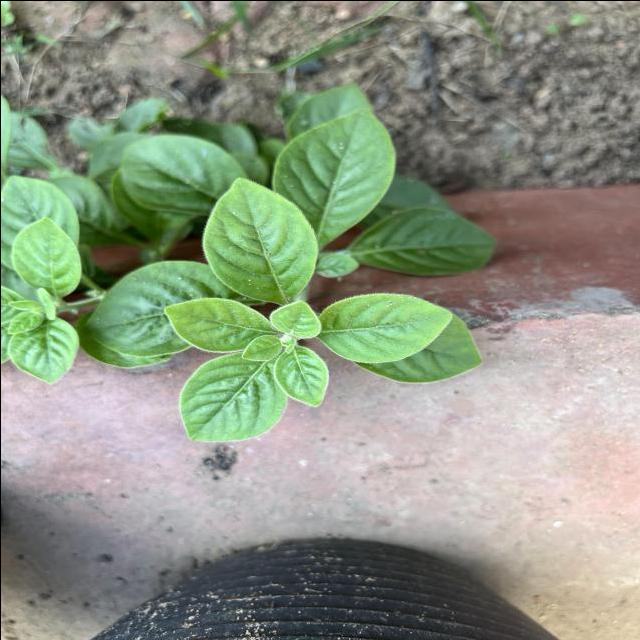Aerva lanata: (197, 174, 321, 303), (174, 351, 290, 444), (314, 289, 454, 365), (160, 296, 280, 354), (270, 342, 331, 409), (266, 298, 322, 340)
